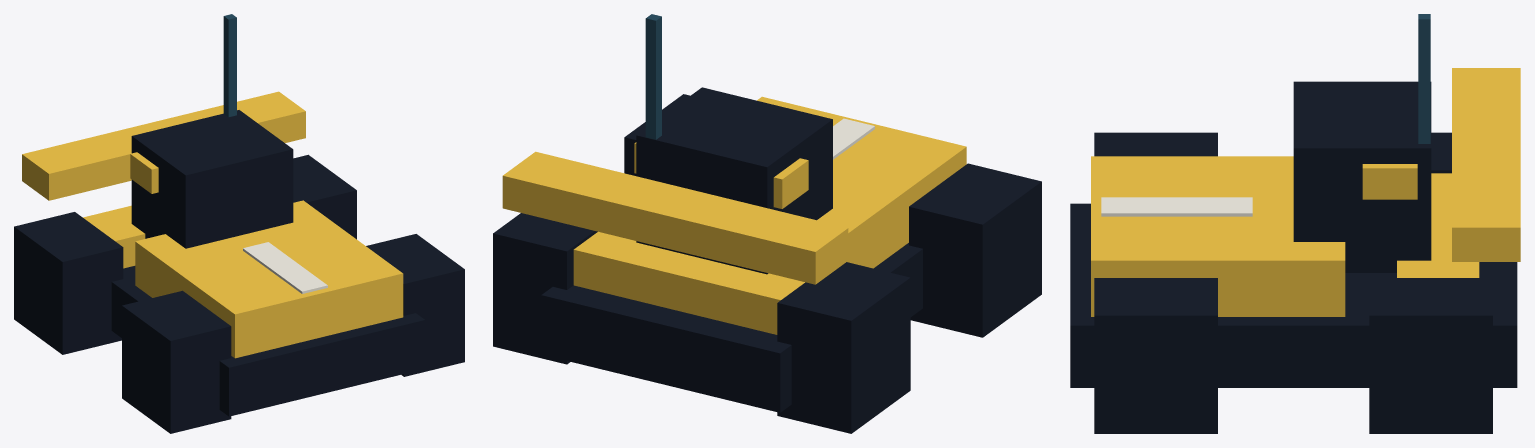
File: kart-2.glb
3 views of the same model, side by side, from view 1: azimuth 30°, elevation 25°; view 2: azimuth 150°, elevation 25°; view 3: azimuth 270°, elevation 25° (orthographic). The views are drawn at different scales.
Visible parts, largest first — view 1: track-part-3, track-part-1, track-part-2, track-part-0; view 2: track-part-3, track-part-1, track-part-0, track-part-2; view 3: track-part-3, track-part-1, track-part-2, track-part-0.
Part boxes in pixels (<box>): track-part-3: <box>14,110,464,433</box>; track-part-1: <box>22,91,403,358</box>; track-part-2: <box>243,242,327,293</box>; track-part-0: <box>223,14,236,117</box>; track-part-3: <box>493,87,1041,433</box>; track-part-1: <box>502,96,966,334</box>; track-part-0: <box>645,14,661,139</box>; track-part-2: <box>833,118,874,159</box>; track-part-3: <box>1070,81,1517,433</box>; track-part-1: <box>1091,68,1520,316</box>; track-part-2: <box>1101,197,1252,216</box>; track-part-0: <box>1418,14,1430,143</box>.
Bounding box in the file's own units: 0.63 × 0.565 × 0.655.
